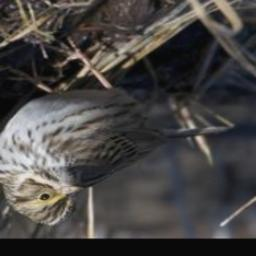Sparrow: (0, 38, 232, 228)
